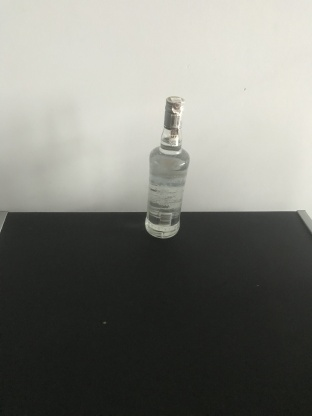nakretka: (162, 94, 186, 130)
